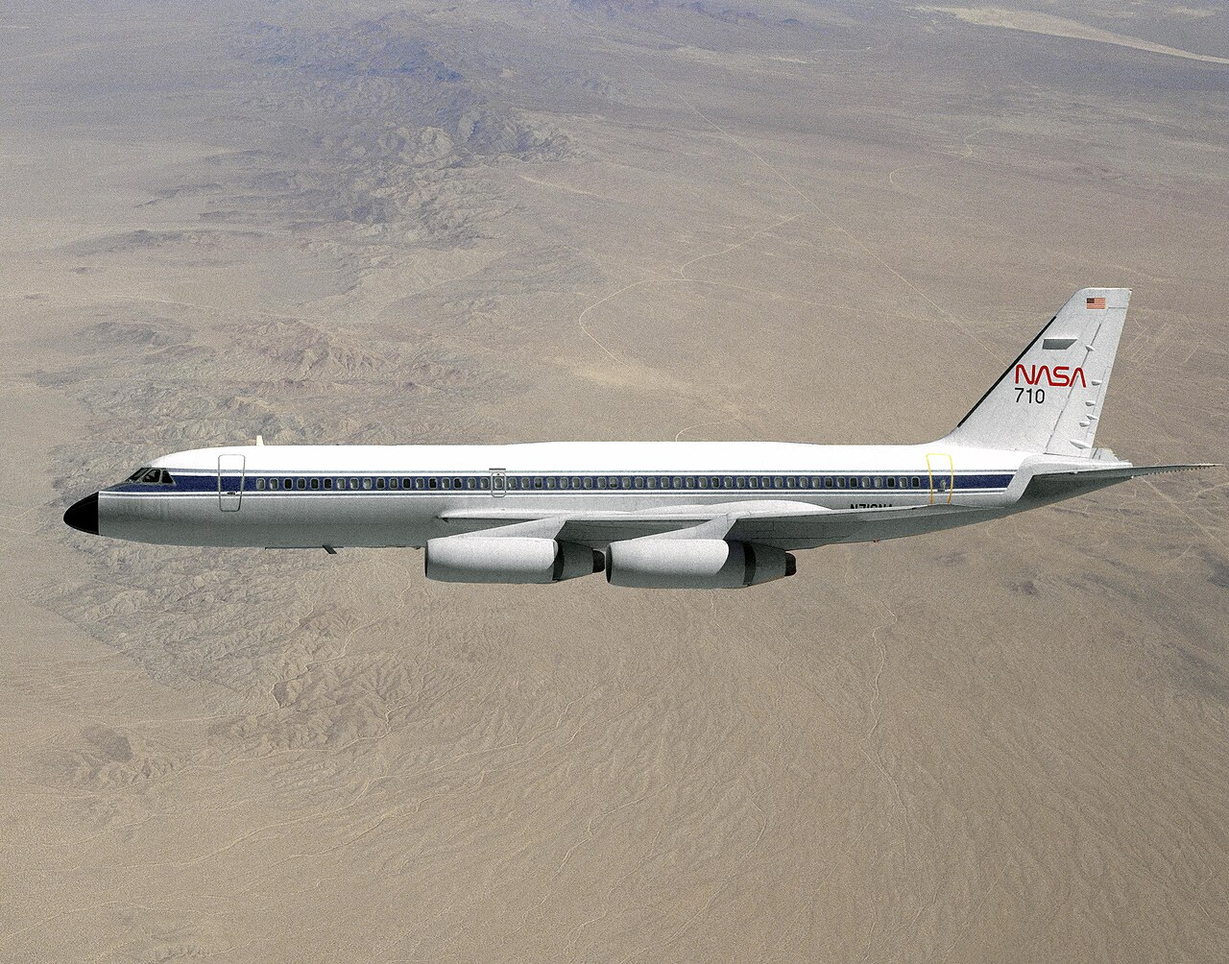aircraft: (61, 292, 1224, 589)
